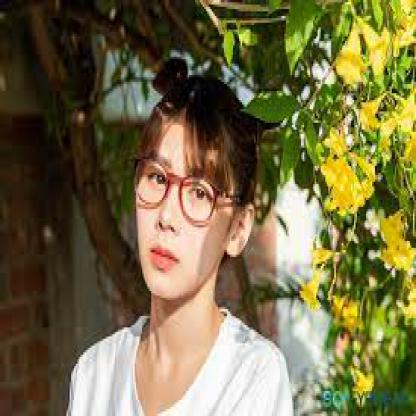glasses: (127, 154, 232, 230)
